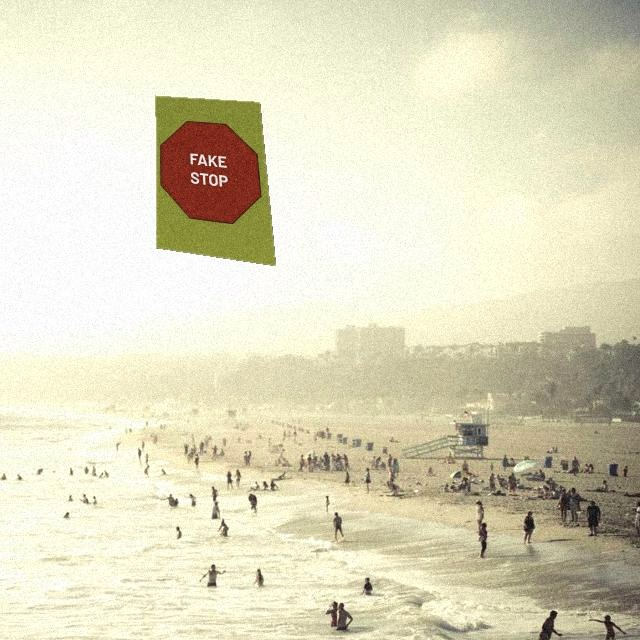FAKE_STOP: (160, 119, 264, 228)
